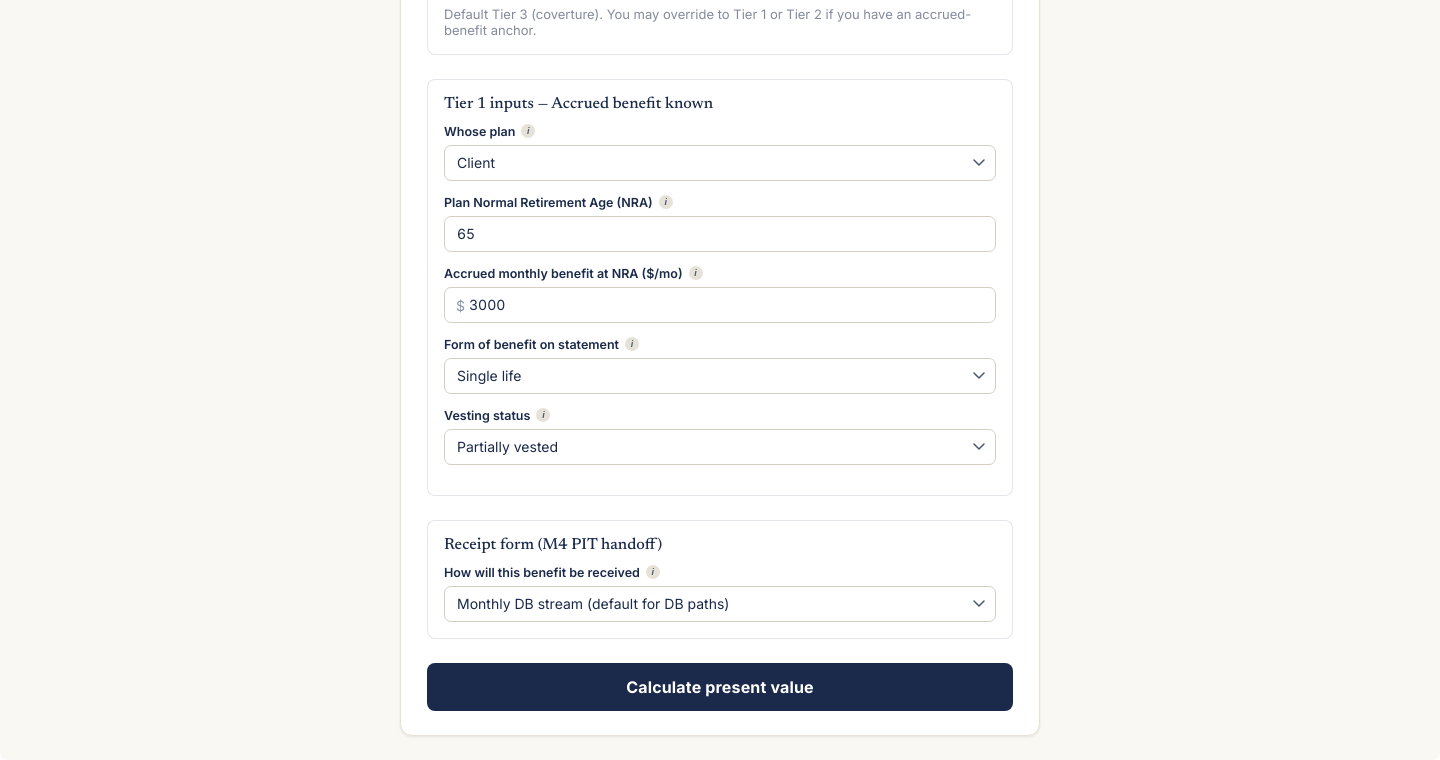
Test: PVA orchestrator (§7.10.3 / LL-17) › TC-PVA-Orchestrator-12: vesting_partial seed surfaces vesting_status_callout via CalloutStack
(page scrolled)
Click the button "Calculate present value" at [720, 687], box [427,663,1013,711]
(page scrolled)
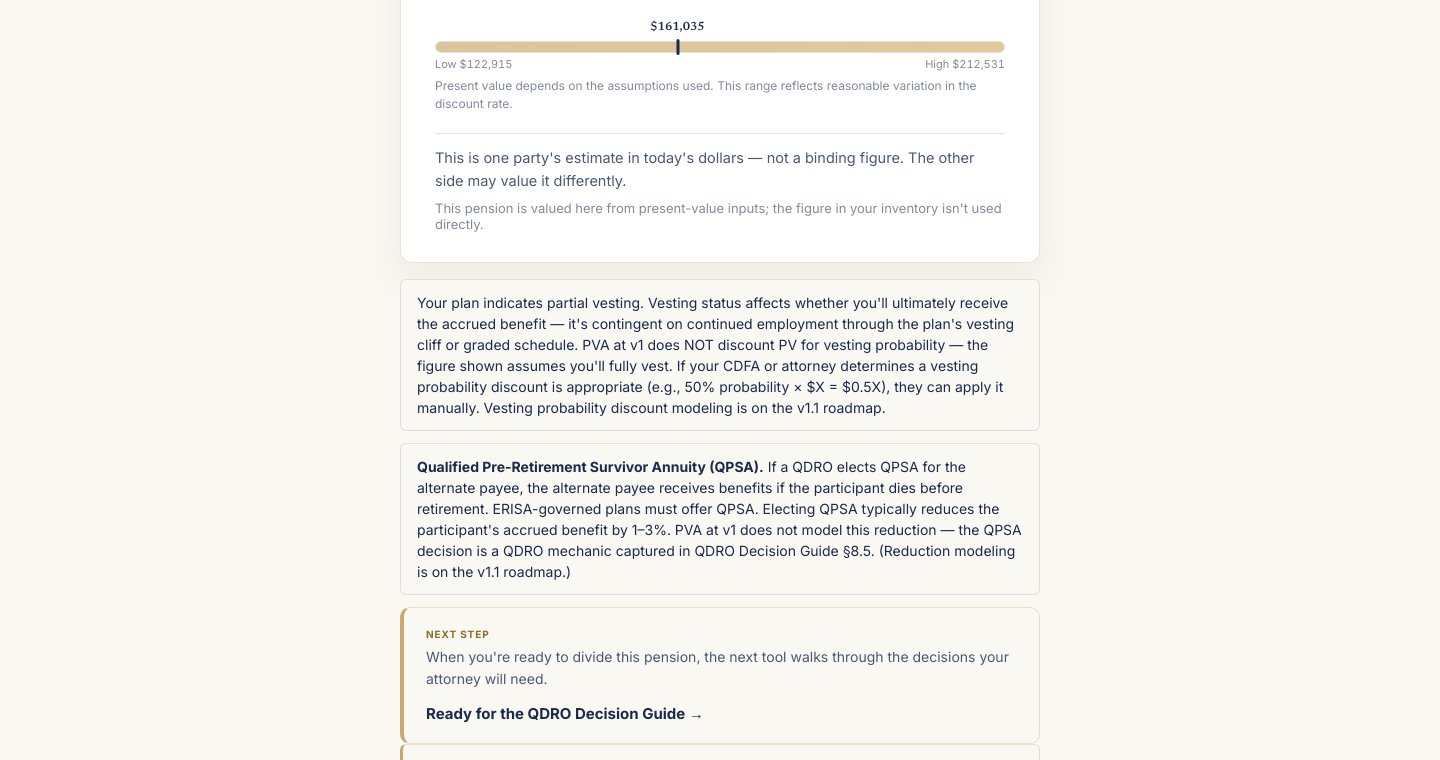
Result: the element with test id "callout-vesting_status_callout" is shown at [400,279,1040,431]
